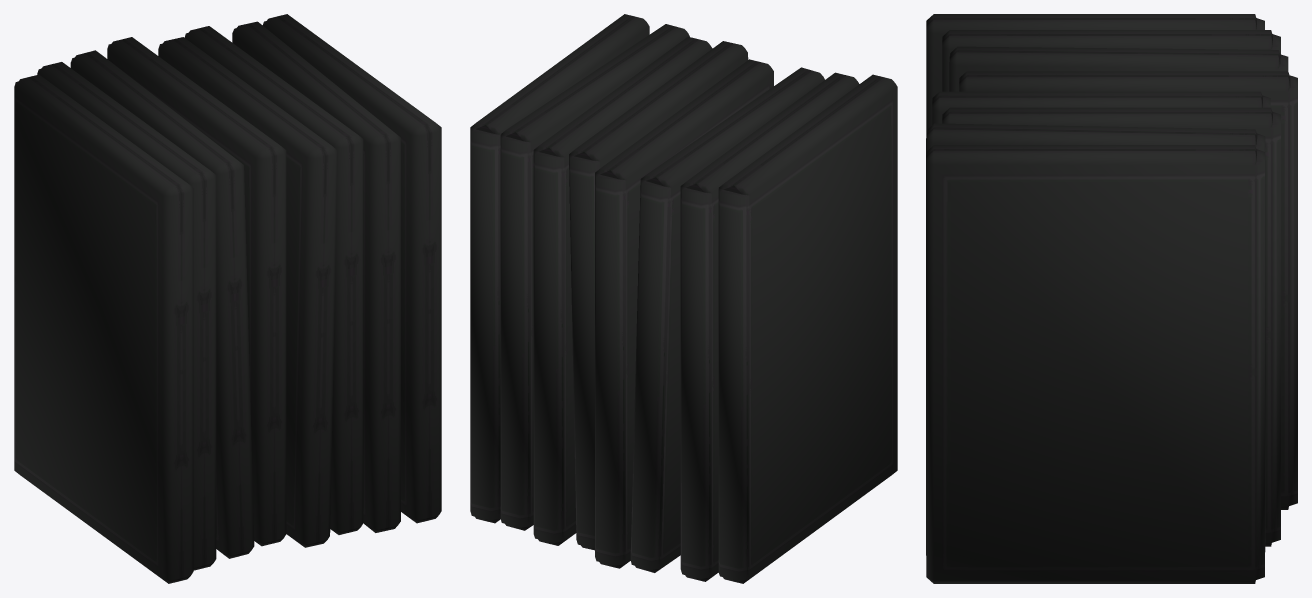
Rendered from dvd_case_row_generic.dae.
3 renders of one model, left to right at view 1: azimuth 30°, elevation 25°; view 2: azimuth 150°, elevation 25°; view 3: azimuth 270°, elevation 25°, orthographic. The views are drawn at different scales.
Parts seen in each view (by area): view 1: polySurface23; view 2: polySurface23; view 3: polySurface23.
Part boxes in pixels (box(x1,y1,x2,y2)): polySurface23: box(14, 14, 441, 583); polySurface23: box(470, 14, 897, 583); polySurface23: box(926, 14, 1297, 583).
Size of the model in its own units: 0.14 by 0.1902 by 0.1493.
